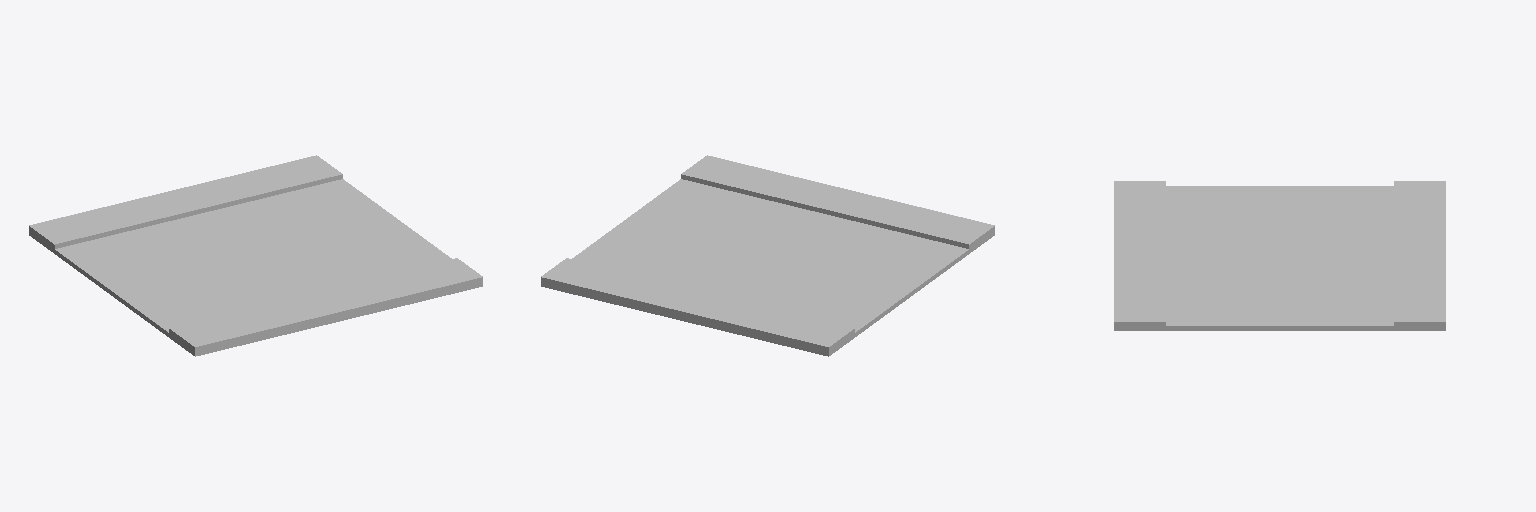
File: Road.obj
The picture shows the model from 3 angles: view 1: azimuth 30°, elevation 25°; view 2: azimuth 150°, elevation 25°; view 3: azimuth 270°, elevation 25°; orthographic projection.
Parts seen in each view (by area): view 1: object 1; view 2: object 1; view 3: object 1.
Part boxes in pixels (left/top/right/bottom): object 1: left=29, top=155, right=482, bottom=356; object 1: left=541, top=155, right=994, bottom=356; object 1: left=1114, top=181, right=1445, bottom=330.
Size of the model in its own units: 6.4 by 0.2 by 6.4.